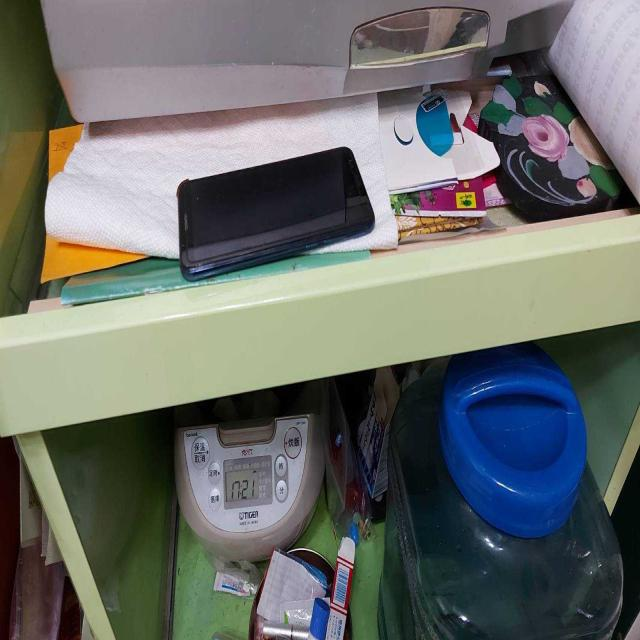Smartphone: (170, 128, 382, 295)
